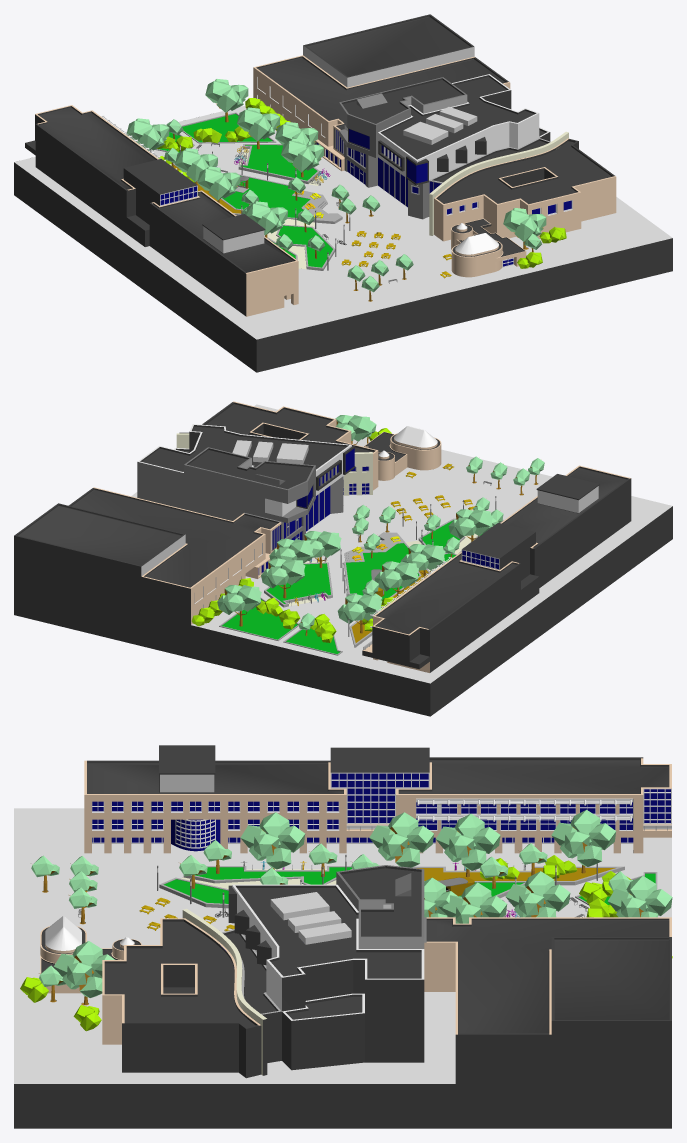
The picture shows the model from 3 angles, top to bottom: view 1: azimuth 30°, elevation 25°; view 2: azimuth 150°, elevation 25°; view 3: azimuth 270°, elevation 25°; orthographic projection. The views are drawn at different scales.
Parts seen in each view (by area): view 1: mesh0; view 2: mesh0; view 3: mesh0.
Part boxes in pixels (x1=…): mesh0: x1=14, y1=14, x2=672, y2=372; mesh0: x1=14, y1=401, x2=672, y2=716; mesh0: x1=14, y1=745, x2=672, y2=1128.
Size of the model in its own units: 13.18 by 3.2 by 13.32.
Materials: 1 (1 with a texture image).
